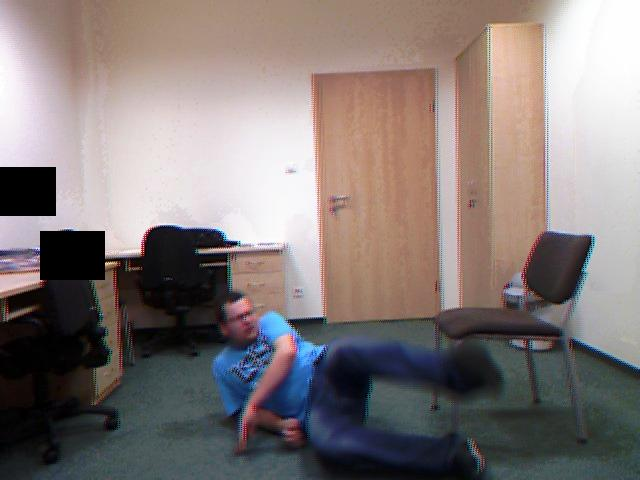fall: (204, 283, 524, 480)
